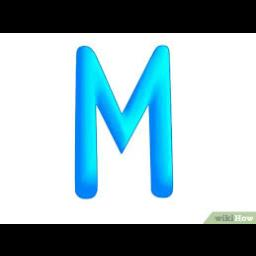m: (70, 38, 178, 202)
